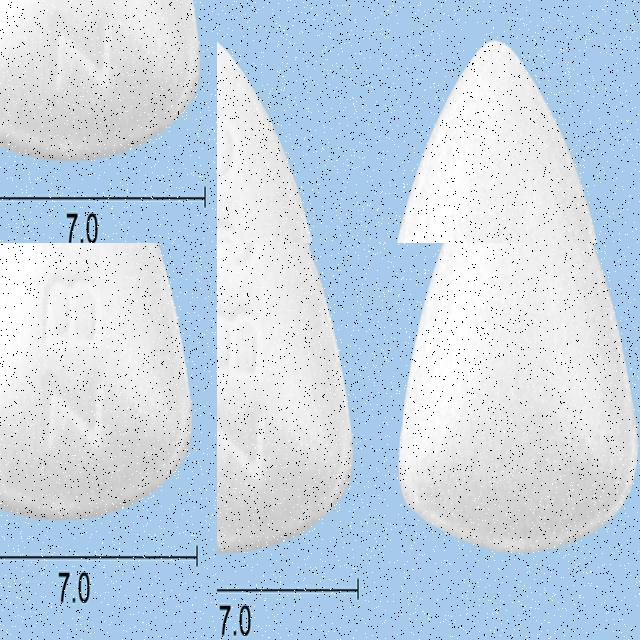Arava: (392, 243, 640, 558), (371, 34, 622, 243), (217, 243, 356, 564), (217, 36, 335, 243)
Claxin: (0, 335, 217, 640)
Cypro: (0, 0, 207, 166)
